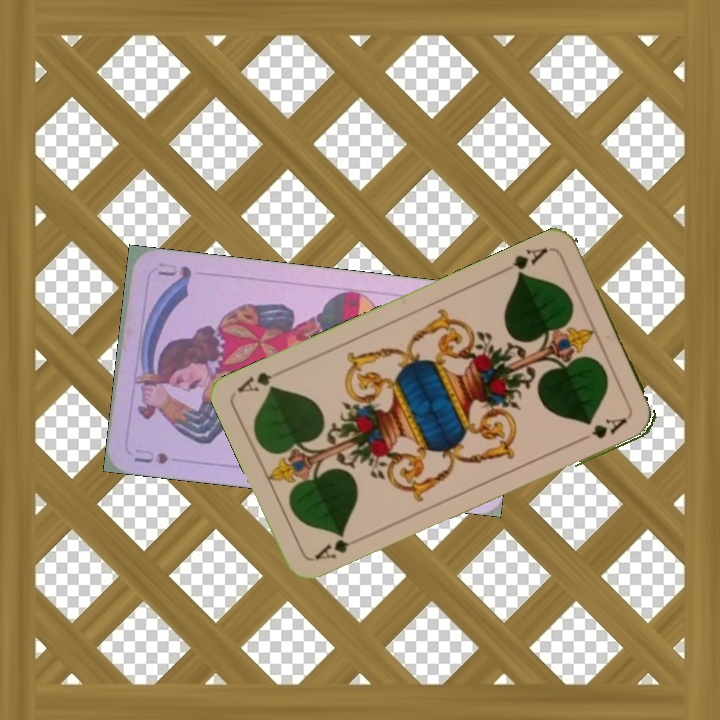GA: (497, 244, 553, 281), (310, 535, 351, 563)
SU: (130, 444, 171, 467)
